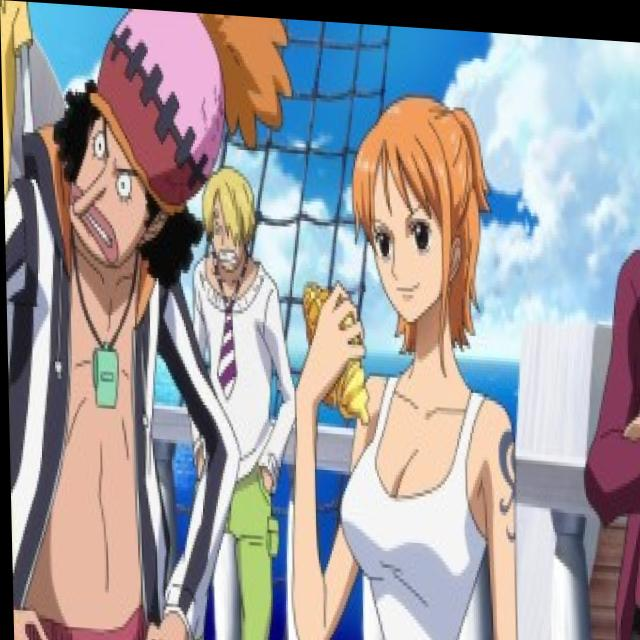Nami: (347, 84, 484, 332)
Sangdi: (199, 158, 262, 275)
Usopp: (56, 3, 202, 269)
